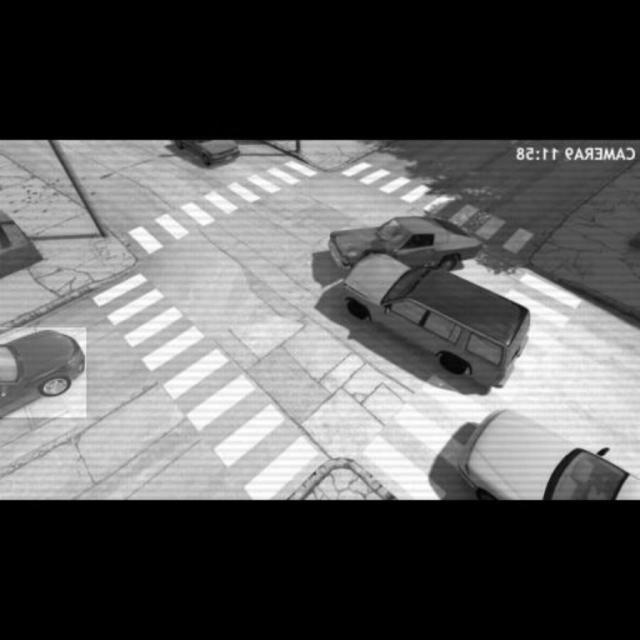accident: (329, 218, 523, 378)
vehicle: (460, 410, 638, 500), (1, 328, 87, 418), (172, 138, 242, 168)
